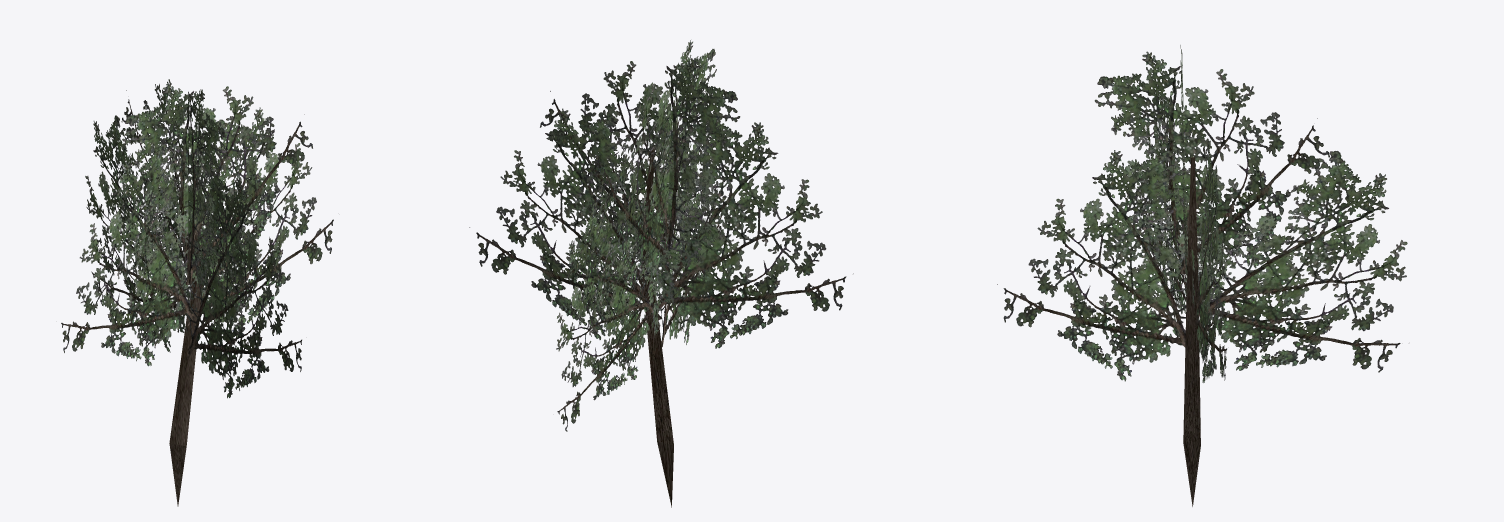
File: mtns_shrb_greenleaf_a1_l2.fbx
3 renders of one model, left to right at view 1: azimuth 30°, elevation 25°; view 2: azimuth 150°, elevation 25°; view 3: azimuth 270°, elevation 25°, orthographic. The views are drawn at different scales.
Visible parts, largest first — view 1: mesh_node; view 2: mesh_node; view 3: mesh_node.
Boxes of the visible parts, x1=… form: mesh_node: x1=61, y1=79, x2=333, y2=506; mesh_node: x1=469, y1=40, x2=853, y2=507; mesh_node: x1=997, y1=45, x2=1407, y2=506.
Bounding box in the file's own units: 2.78 × 2.75 × 2.93.
